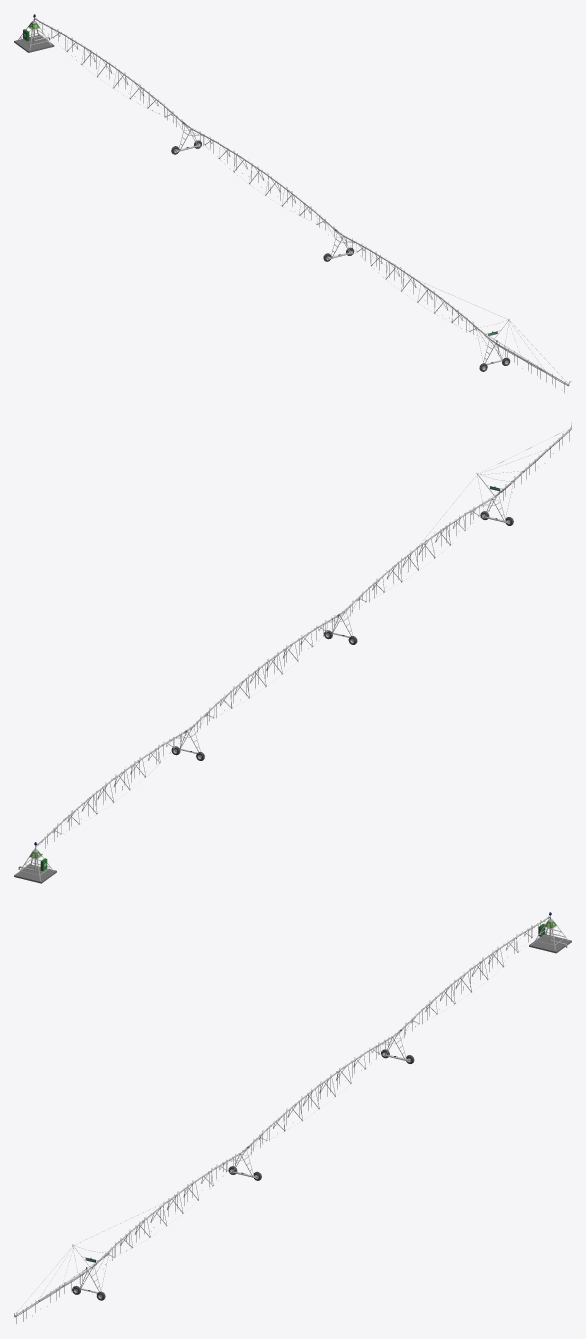
Rendered from pivot-bauer.glb.
The picture shows the model from 3 angles, top to bottom: view 1: azimuth 30°, elevation 25°; view 2: azimuth 150°, elevation 25°; view 3: azimuth 330°, elevation 25°; orthographic projection. The views are drawn at different scales.
Visible parts, largest first — view 1: terceira_torre, segunda_torre, primeira_torre; view 2: terceira_torre, segunda_torre, primeira_torre; view 3: terceira_torre, segunda_torre, primeira_torre.
Part boxes in pixels (x1,y1,x2,y2): terceira_torre: (327, 231, 571, 393); segunda_torre: (175, 123, 339, 238); primeira_torre: (35, 18, 187, 131); terceira_torre: (332, 422, 571, 637); segunda_torre: (179, 613, 343, 753); primeira_torre: (37, 729, 190, 848); terceira_torre: (14, 1148, 257, 1323); segunda_torre: (244, 1031, 409, 1156); primeira_torre: (397, 917, 548, 1039).
Size of the model in its own units: 9.16 by 8.74 by 188.
Materials: 26 (6 with a texture image).
